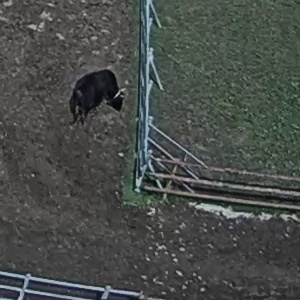cow: (65, 58, 128, 134)
